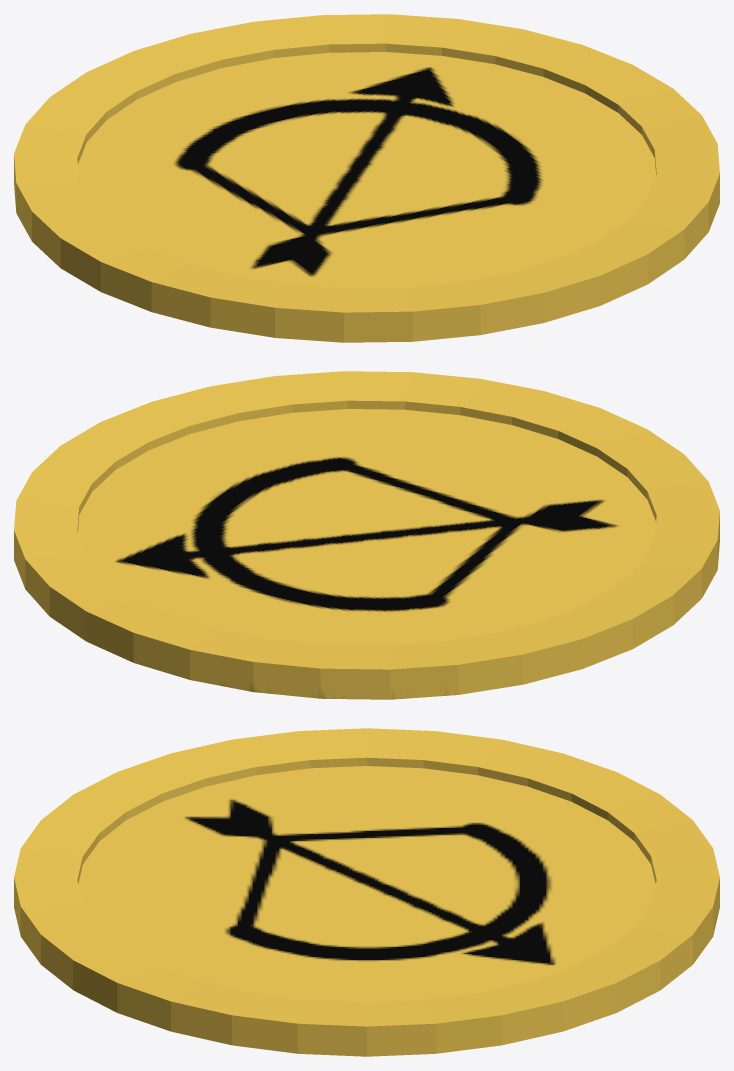
File: CoinArquero.fbx
3 views of the same model, one above another, from view 1: azimuth 30°, elevation 25°; view 2: azimuth 150°, elevation 25°; view 3: azimuth 270°, elevation 25° (orthographic).
Visible parts, largest first — view 1: CoinArquero; view 2: CoinArquero; view 3: CoinArquero.
Boxes of the visible parts, left/top/right/bottom form: CoinArquero: left=14, top=14, right=719, bottom=342; CoinArquero: left=14, top=371, right=719, bottom=699; CoinArquero: left=14, top=728, right=719, bottom=1056.
Bounding box in the file's own units: 57.16 × 2.69 × 57.16.
1 material, 1 textured.
